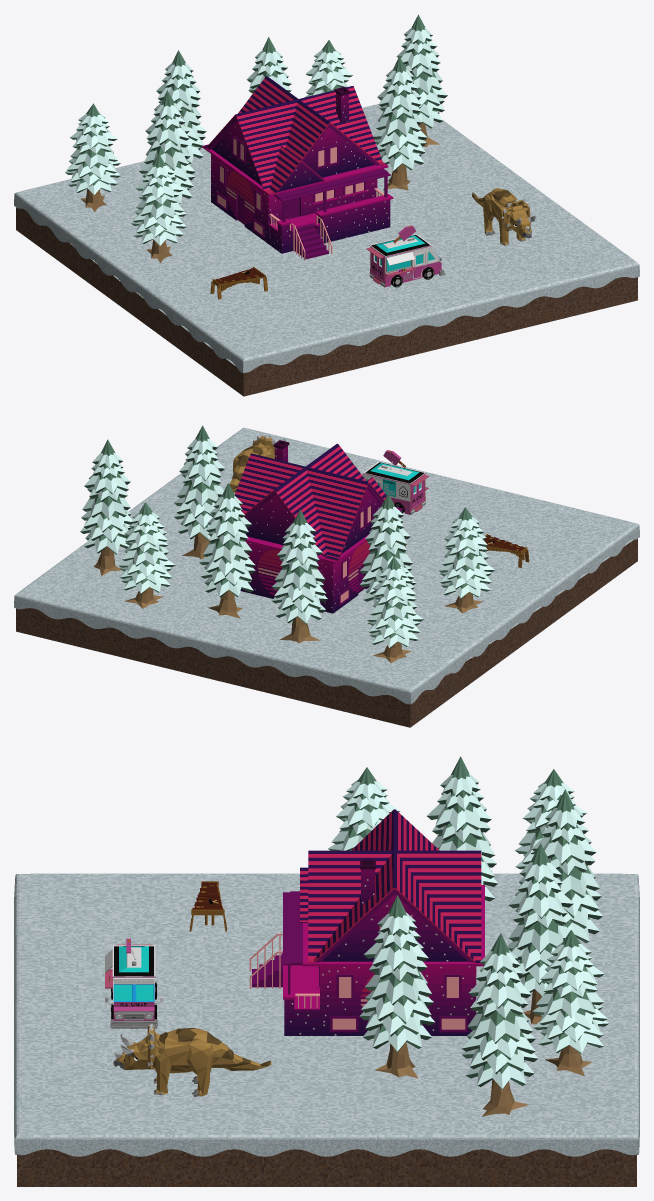
The picture shows the model from 3 angles, top to bottom: view 1: azimuth 30°, elevation 25°; view 2: azimuth 150°, elevation 25°; view 3: azimuth 270°, elevation 25°; orthographic projection. The views are drawn at different scales.
Visible parts, largest first — view 1: Cube.003, Cube.156, VEHICLES_ICE_CREAM_TRUCK, ANIMAL_Triceratops, OBJRANDOM_MARIMBA; view 2: Cube.003, Cube.156, VEHICLES_ICE_CREAM_TRUCK, ANIMAL_Triceratops, OBJRANDOM_MARIMBA; view 3: Cube.003, Cube.156, ANIMAL_Triceratops, VEHICLES_ICE_CREAM_TRUCK, OBJRANDOM_MARIMBA.
Part boxes in pixels (left/top/right/bottom): Cube.003: left=14, top=14, right=639, bottom=396; Cube.156: left=202, top=76, right=393, bottom=260; VEHICLES_ICE_CREAM_TRUCK: left=366, top=225, right=445, bottom=287; ANIMAL_Triceratops: left=472, top=188, right=535, bottom=245; OBJRANDOM_MARIMBA: left=210, top=266, right=267, bottom=299; Cube.003: left=14, top=425, right=639, bottom=727; Cube.156: left=235, top=440, right=405, bottom=613; VEHICLES_ICE_CREAM_TRUCK: left=362, top=450, right=429, bottom=514; ANIMAL_Triceratops: left=229, top=435, right=285, bottom=492; OBJRANDOM_MARIMBA: left=484, top=534, right=529, bottom=567; Cube.003: left=14, top=756, right=639, bottom=1186; Cube.156: left=249, top=809, right=484, bottom=1035; ANIMAL_Triceratops: left=113, top=1023, right=271, bottom=1096; VEHICLES_ICE_CREAM_TRUCK: left=105, top=938, right=162, bottom=1028; OBJRANDOM_MARIMBA: left=189, top=881, right=226, bottom=931.
Size of the model in its own units: 4040 by 1670 by 4040.
Materials: 44 (5 with a texture image).
